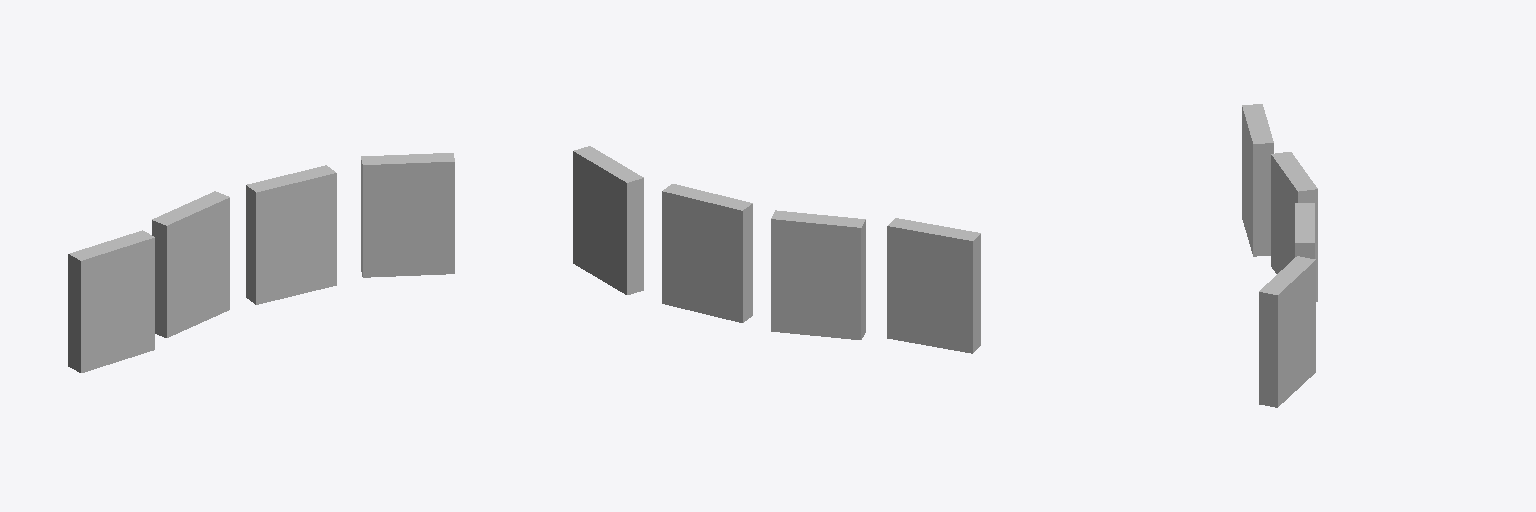
File: cereales.obj
The picture shows the model from 3 angles: view 1: azimuth 30°, elevation 25°; view 2: azimuth 150°, elevation 25°; view 3: azimuth 270°, elevation 25°; orthographic projection.
Parts seen in each view (by area): view 1: FROSTED_FLAKES, CHEERIOS, LIFE_CEREAL, LUCKY_CHARMS; view 2: LUCKY_CHARMS, LIFE_CEREAL, CHEERIOS, FROSTED_FLAKES; view 3: FROSTED_FLAKES, LIFE_CEREAL, LUCKY_CHARMS, CHEERIOS.
Boxes of the visible parts, <box> form: FROSTED_FLAKES: <box>361,153,454,277</box>; CHEERIOS: <box>246,165,336,304</box>; LIFE_CEREAL: <box>68,230,154,372</box>; LUCKY_CHARMS: <box>152,191,229,337</box>; LUCKY_CHARMS: <box>771,210,865,339</box>; LIFE_CEREAL: <box>887,218,980,353</box>; CHEERIOS: <box>662,184,752,322</box>; FROSTED_FLAKES: <box>573,146,643,294</box>; FROSTED_FLAKES: <box>1259,256,1315,407</box>; LIFE_CEREAL: <box>1242,104,1273,256</box>; LUCKY_CHARMS: <box>1271,152,1317,301</box>; CHEERIOS: <box>1295,203,1314,258</box>.
Size of the model in its own units: 13.46 by 3.69 by 2.26.